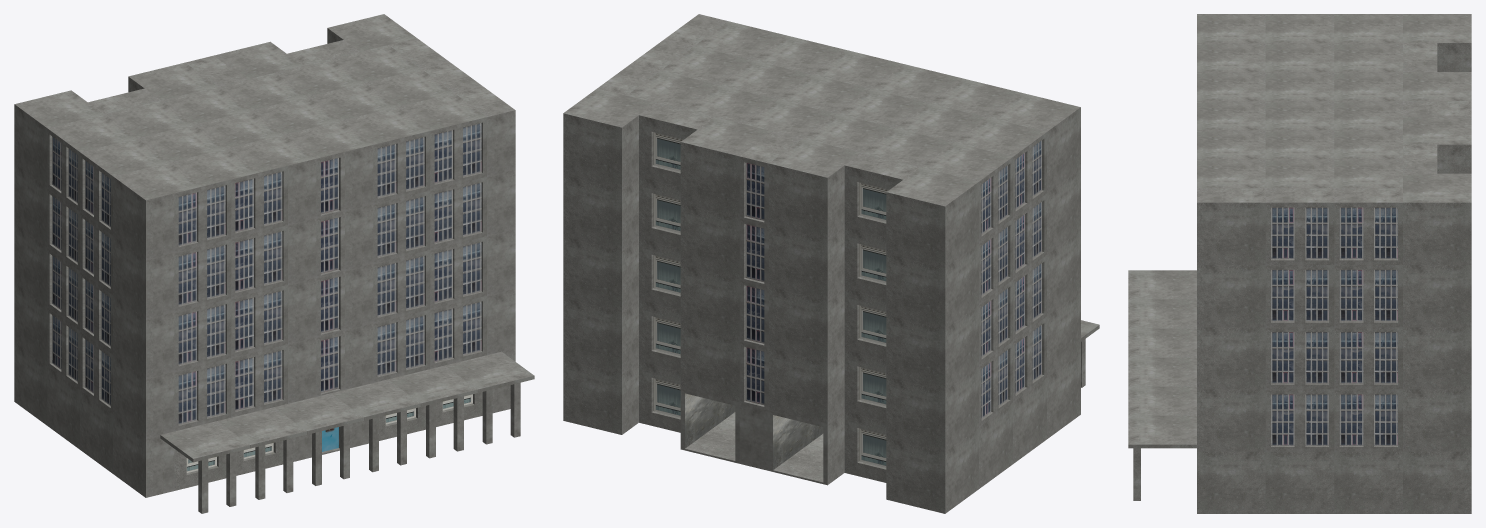
Rendered from Building_8.fbx.
3 views of the same model, side by side, from view 1: azimuth 30°, elevation 25°; view 2: azimuth 150°, elevation 25°; view 3: azimuth 270°, elevation 25° (orthographic). The views are drawn at different scales.
Parts seen in each view (by area): view 1: Building_8; view 2: Building_8; view 3: Building_8.
Part boxes in pixels (left/top/right/bottom): Building_8: left=14, top=14, right=534, bottom=513; Building_8: left=563, top=14, right=1099, bottom=513; Building_8: left=1128, top=14, right=1471, bottom=513.
Size of the model in its own units: 2145 by 1650 by 1650.
